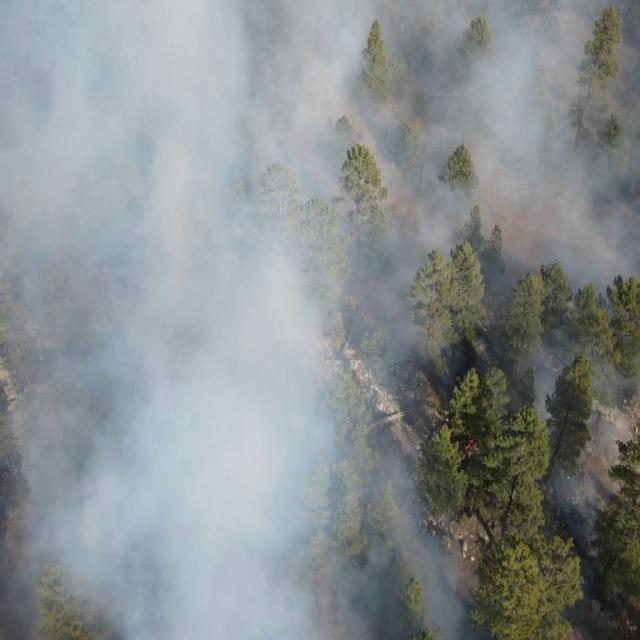fire: (95, 266, 108, 286), (462, 440, 479, 455)
smoke: (0, 1, 462, 640), (459, 0, 640, 312), (519, 337, 640, 552)
